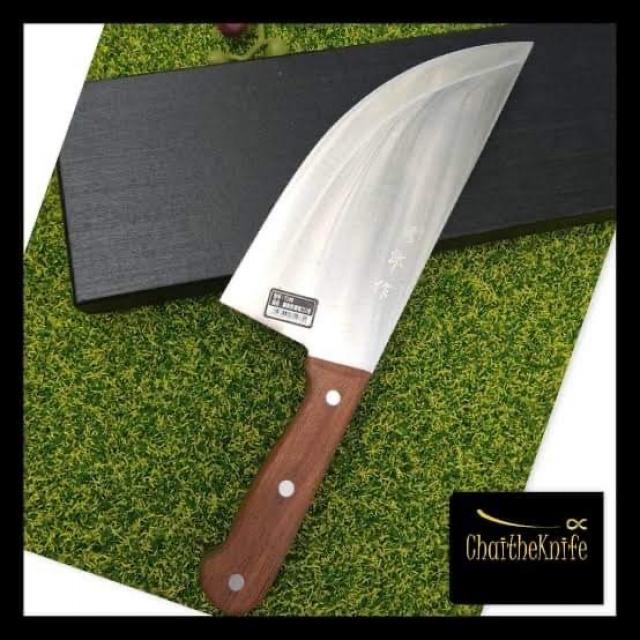knife: (106, 30, 583, 621)
